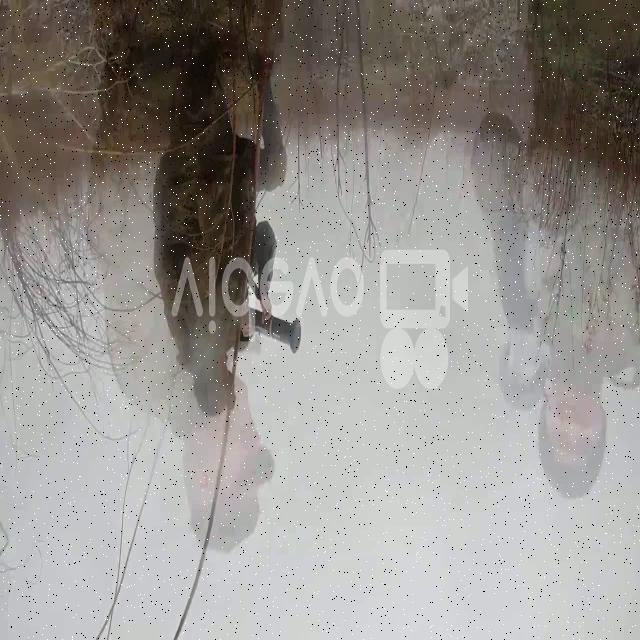bazooka: (250, 311, 306, 363)
